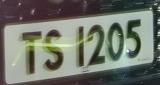0: (106, 16, 127, 67)
1: (72, 21, 90, 74)
2: (86, 18, 108, 72)
5: (123, 15, 146, 62)
S: (41, 29, 67, 74)
T: (18, 28, 44, 79)
